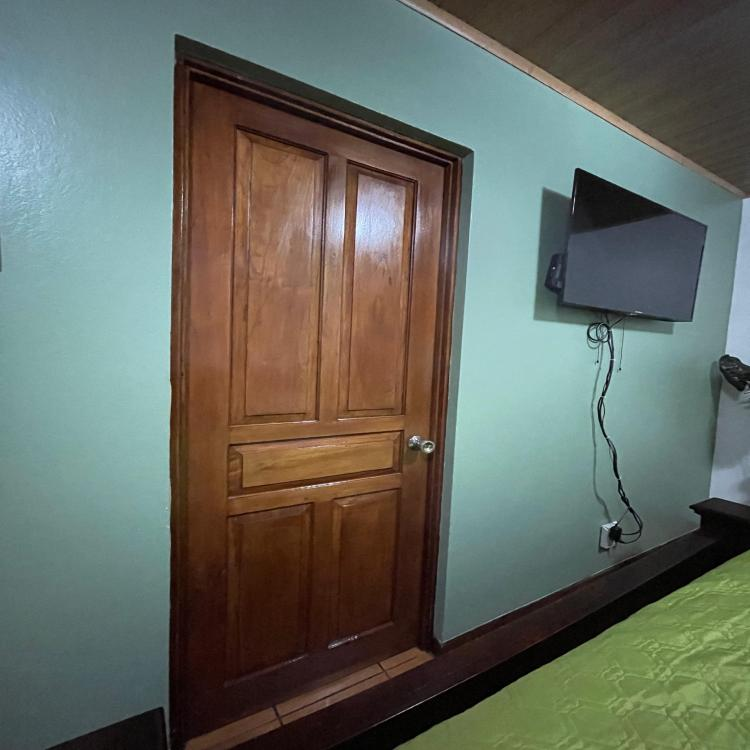ClosedDoor: (159, 71, 476, 742)
